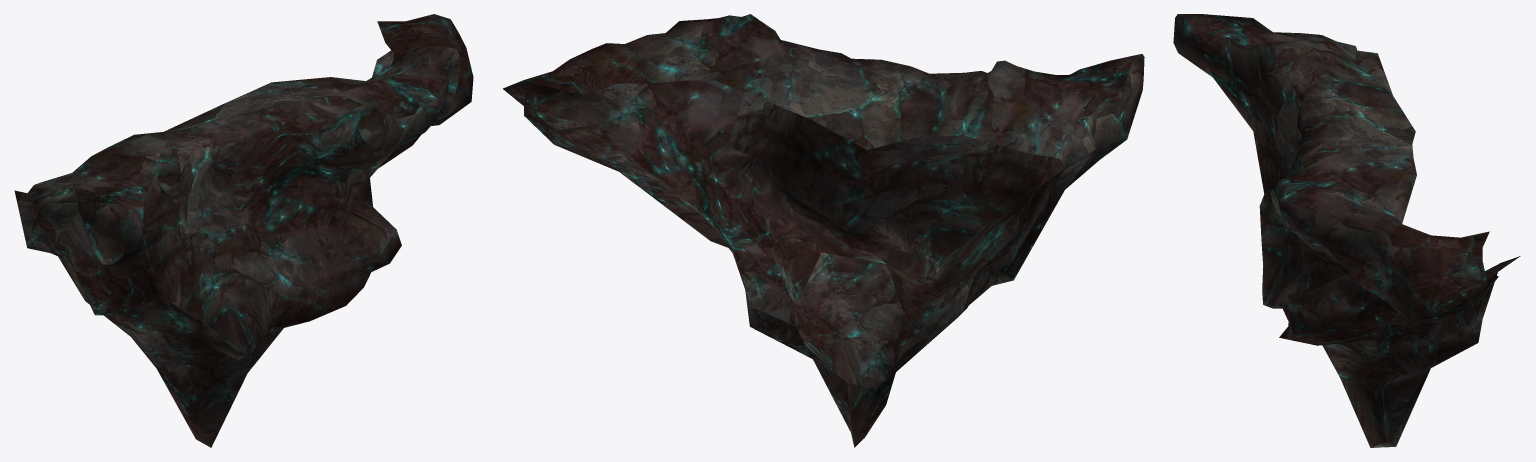
The model's file is S_Rock_Black084.FBX.
3 views of the same model, side by side, from view 1: azimuth 30°, elevation 25°; view 2: azimuth 150°, elevation 25°; view 3: azimuth 270°, elevation 25° (orthographic). The views are drawn at different scales.
Visible parts, largest first — view 1: S_Rock_Black084; view 2: S_Rock_Black084; view 3: S_Rock_Black084.
Boxes of the visible parts, x1=… form: S_Rock_Black084: x1=14, y1=14, x2=473, y2=447; S_Rock_Black084: x1=503, y1=14, x2=1144, y2=447; S_Rock_Black084: x1=1173, y1=14, x2=1520, y2=447.
Size of the model in its own units: 2153 by 1301 by 1479.
